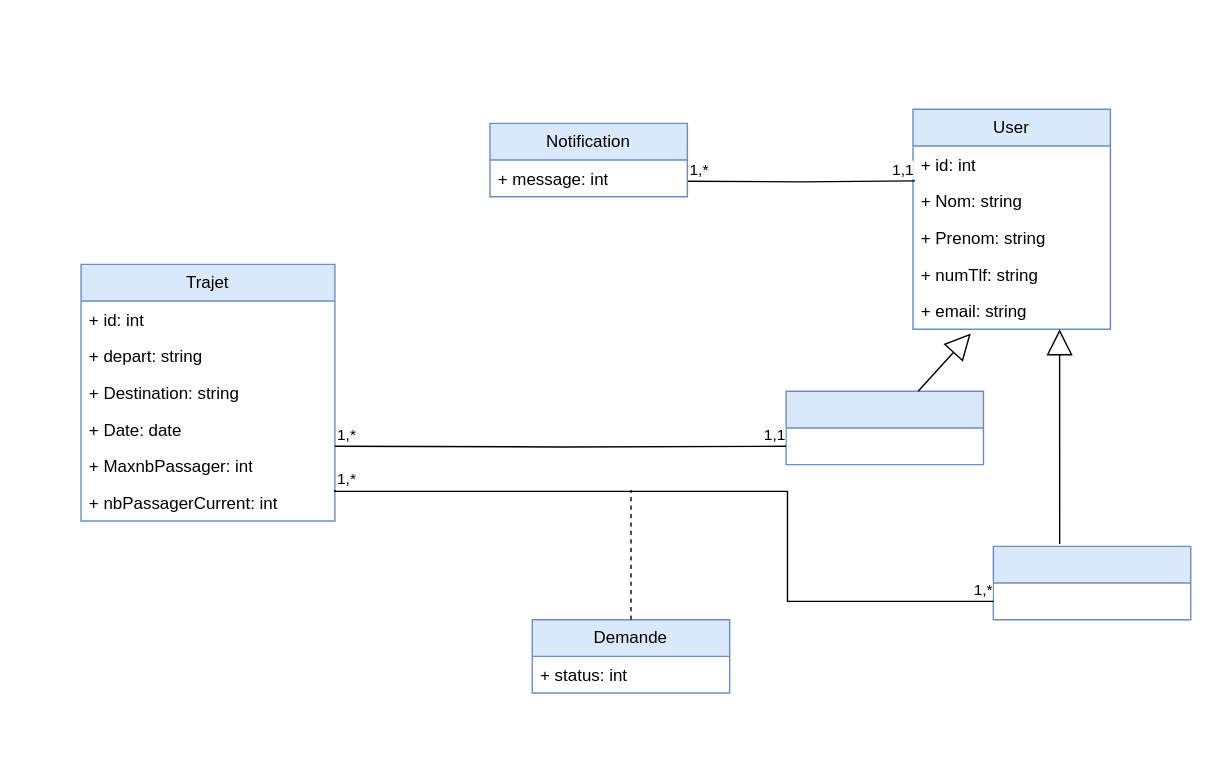
The diagram is 1218 pixels wide and 767 high, and some of its shapes have lost their labels. The centre of each missing label's shape, as x and y in pixels:
"Conducteur" goes at [884,427].
"Passager" goes at [1091,582].
